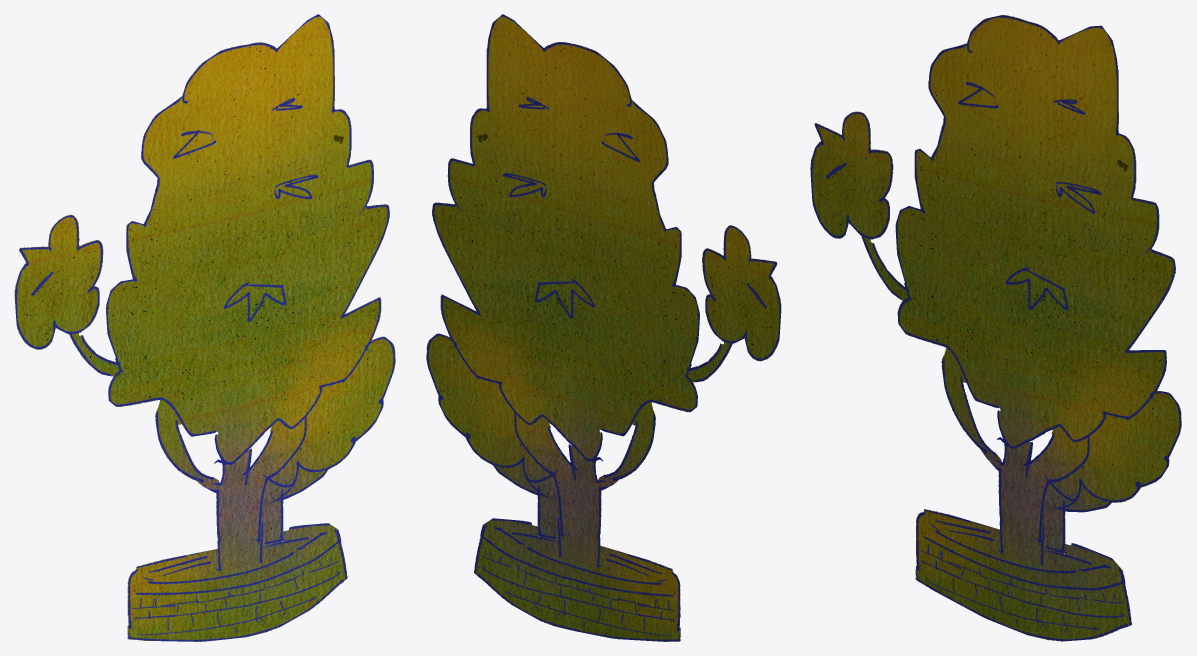
File: 02_plant_01.fbx
The picture shows the model from 3 angles, left to right: view 1: azimuth 30°, elevation 25°; view 2: azimuth 150°, elevation 25°; view 3: azimuth 330°, elevation 25°; orthographic projection. The views are drawn at different scales.
Visible parts, largest first — view 1: 02_樹_01; view 2: 02_樹_01; view 3: 02_樹_01.
Boxes of the visible parts, x1=… form: 02_樹_01: x1=14, y1=14, x2=395, y2=641; 02_樹_01: x1=426, y1=14, x2=781, y2=641; 02_樹_01: x1=810, y1=15, x2=1181, y2=641.
Bounding box in the file's own units: 308 × 480 × 16.57.
1 material, 1 textured.
